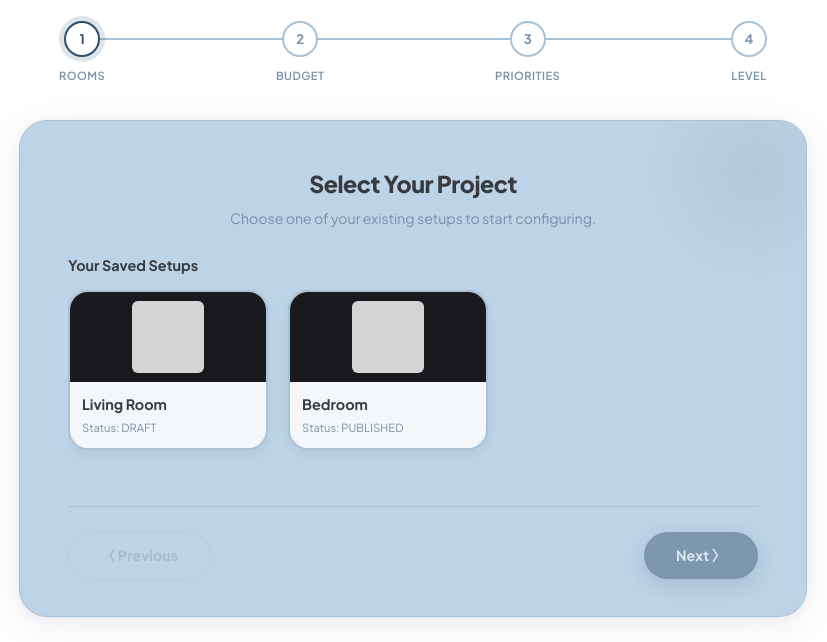
Test: SetupWizard › Step 1 — Select Your Project › selects a setup when clicked and shows checkmark badge
Click the text "Living Room". click: point(124, 404)
box: 82,395 -> 167,413
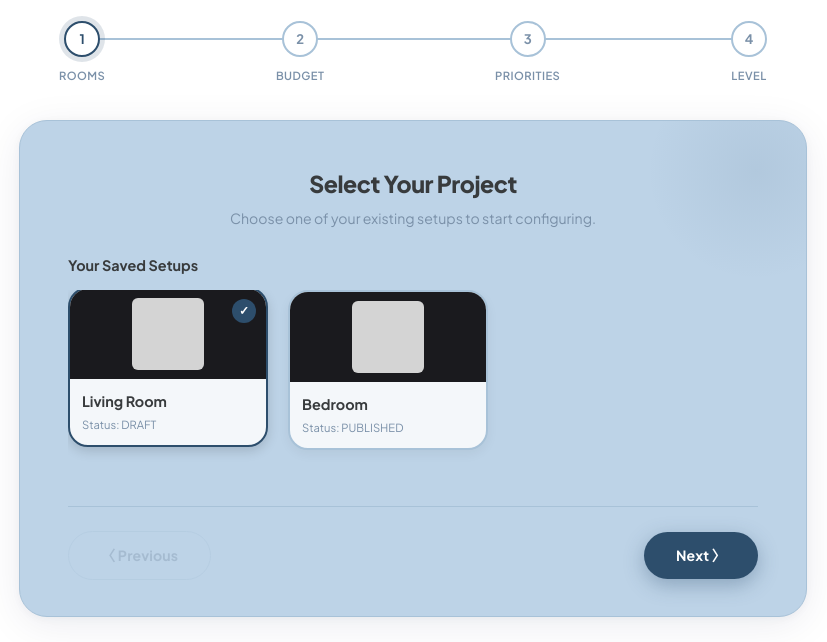
Now the text "✓" is shown, box 232,299 -> 256,323
